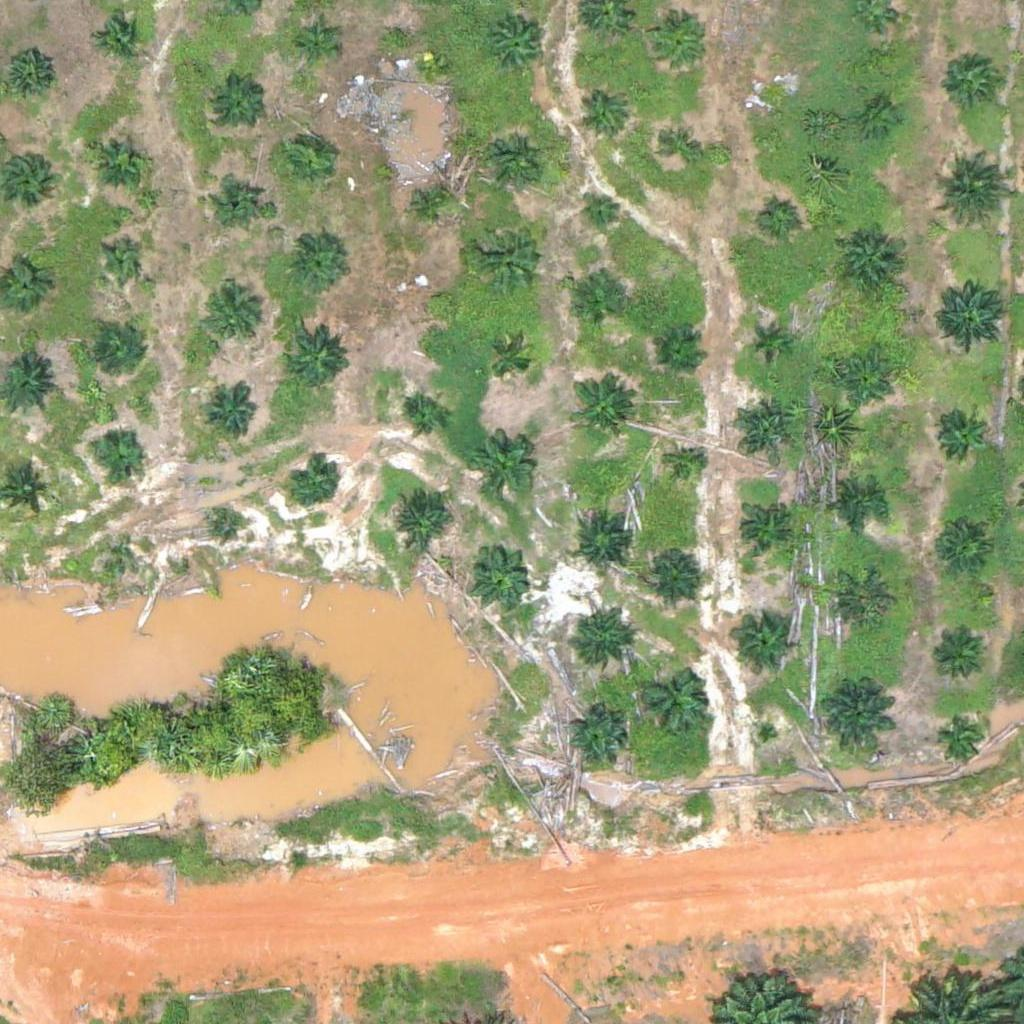Kelapa_Sawit: (472, 214, 547, 290), (819, 676, 894, 752), (633, 663, 708, 739), (931, 157, 1006, 232), (933, 271, 1008, 346), (732, 393, 795, 456), (469, 434, 532, 497), (566, 611, 629, 674), (465, 543, 528, 606), (733, 612, 796, 675), (565, 708, 628, 771), (568, 375, 630, 438), (285, 323, 347, 386), (836, 231, 898, 294), (938, 48, 1000, 111), (203, 286, 265, 349), (483, 131, 545, 194), (282, 233, 344, 296), (89, 128, 151, 191), (832, 571, 894, 634), (388, 488, 450, 551), (488, 18, 550, 80), (573, 513, 635, 575), (640, 541, 702, 603), (838, 358, 888, 409), (933, 409, 983, 460), (92, 424, 142, 475), (96, 325, 146, 376), (2, 49, 52, 100), (93, 13, 143, 64), (937, 522, 987, 573), (833, 480, 883, 530), (207, 390, 257, 440), (288, 457, 338, 507), (214, 174, 264, 224), (213, 78, 263, 128), (654, 18, 704, 68), (567, 281, 617, 331), (280, 134, 330, 184), (932, 633, 982, 683), (737, 503, 787, 553), (938, 714, 988, 764), (653, 328, 703, 378), (484, 337, 534, 387), (399, 394, 449, 444), (407, 177, 457, 227), (579, 90, 629, 140), (295, 24, 333, 62), (669, 449, 707, 487), (582, 192, 620, 230), (757, 86, 795, 124), (663, 128, 701, 166), (862, 102, 899, 140), (748, 324, 785, 362), (762, 200, 800, 237), (102, 241, 139, 279), (213, 510, 238, 535), (416, 52, 441, 77), (423, 287, 448, 312), (118, 544, 143, 569)
